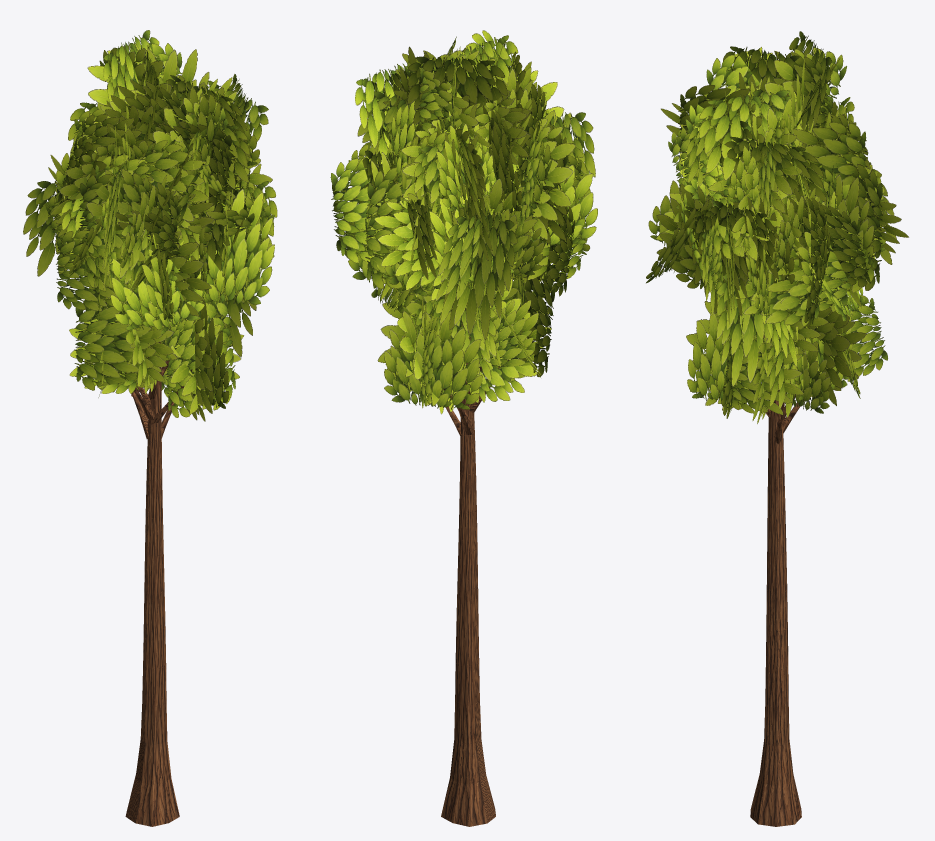
Rendered from PoplarTree.glb.
3 renders of one model, left to right at view 1: azimuth 30°, elevation 25°; view 2: azimuth 150°, elevation 25°; view 3: azimuth 270°, elevation 25°, orthographic.
Visible parts, largest first — view 1: tree_poplar; view 2: tree_poplar; view 3: tree_poplar.
Part boxes in pixels (left/top/right/bottom): tree_poplar: left=23, top=30, right=277, bottom=826; tree_poplar: left=330, top=30, right=597, bottom=826; tree_poplar: left=646, top=31, right=908, bottom=826.
Size of the model in its own units: 5.39 by 17.06 by 5.68.
2 materials, 2 textured.
